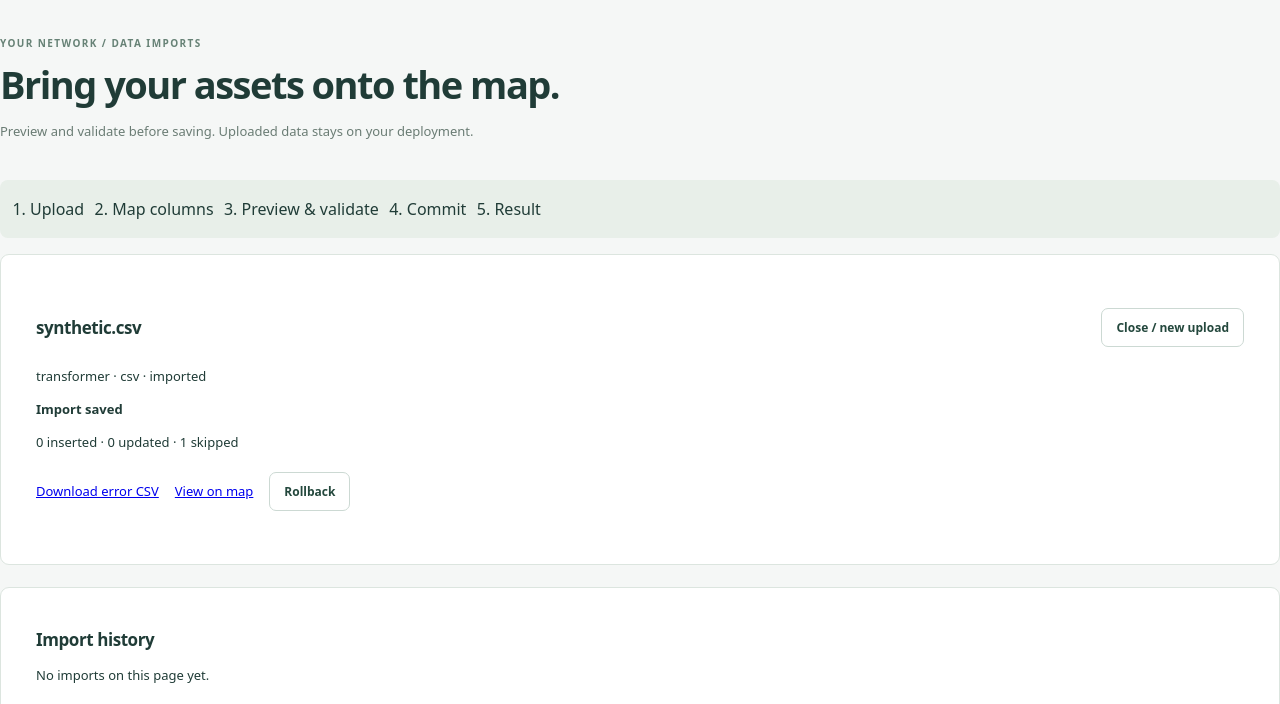
Test: retains the saved import on rollback conflict and shows the server response
Expected: the heading "Import saved" is shown, [36,400,123,418]
Click the button "Rollback" at (310, 491), box [269,472,350,511]
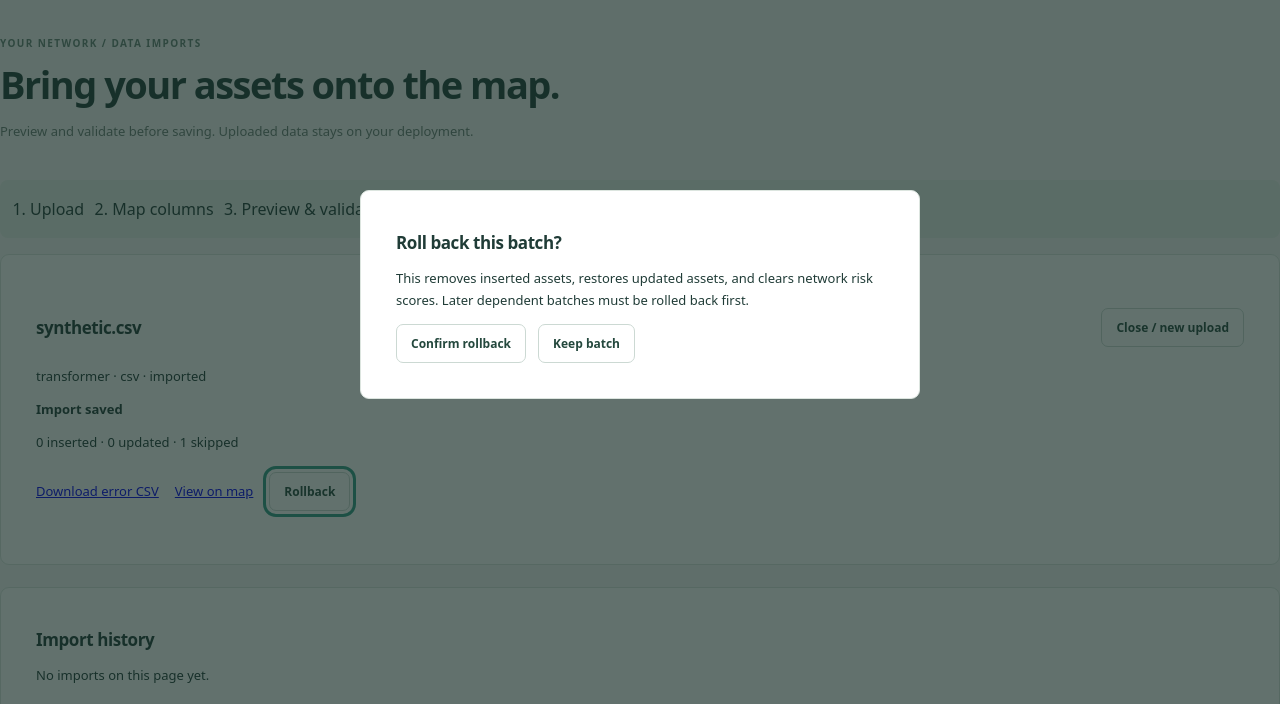
Click the button "Confirm rollback" at (461, 344), box [396,324,526,363]
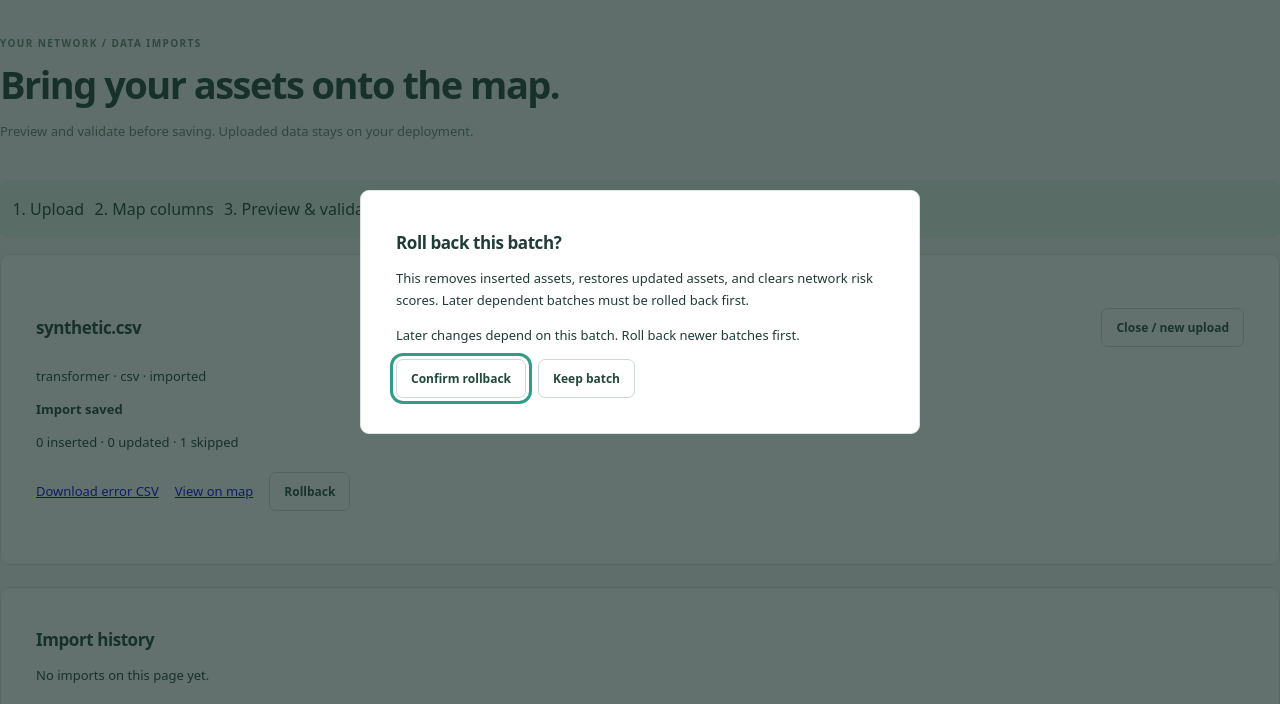
Expected: the heading "Import saved" is shown, [36,400,123,418]
Expected: the dialog is shown, [360,190,920,434]
Expected: the text "Later changes depend on this batch. Roll back newer batches first." is shown, [396,326,800,344]
